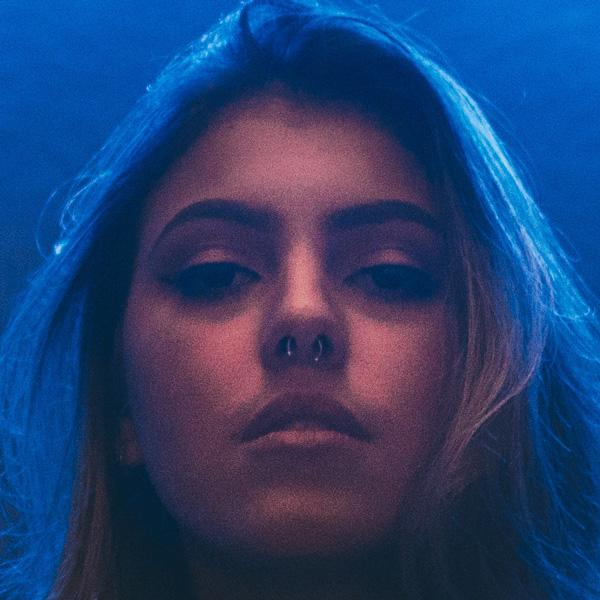Eyes: (162, 241, 269, 311), (339, 244, 435, 311)
